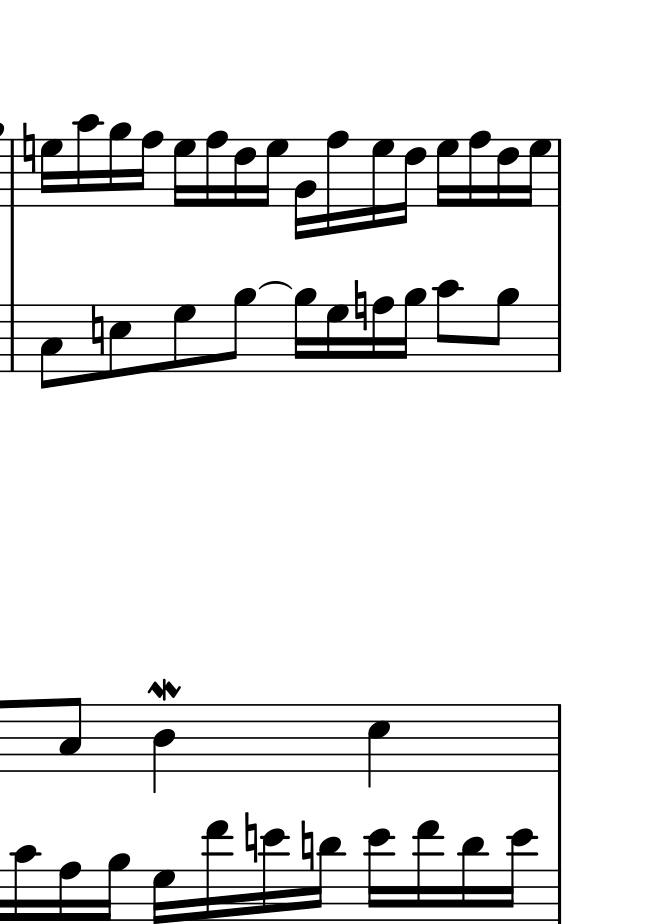16_10: (75, 110, 101, 208), (12, 845, 38, 924)
16_11: (311, 836, 341, 924), (459, 835, 486, 924)
16_12: (501, 827, 536, 924), (364, 826, 394, 924), (260, 826, 289, 924)
16_13: (413, 817, 442, 924), (203, 815, 231, 924)
16_2: (294, 138, 316, 242)
16_6: (396, 136, 427, 227), (233, 136, 257, 208), (496, 136, 520, 208)
16_7: (522, 137, 552, 208), (259, 138, 289, 208), (172, 137, 196, 210), (39, 137, 63, 209), (324, 302, 348, 374), (435, 137, 459, 208), (150, 868, 176, 924)
16_8: (324, 129, 348, 235), (133, 131, 163, 208), (370, 138, 394, 229), (203, 130, 229, 208), (467, 130, 491, 210), (370, 295, 394, 373), (57, 860, 81, 924)
16_9: (397, 288, 424, 372), (97, 851, 128, 924), (107, 120, 131, 210), (293, 287, 316, 373)
4_4: (152, 704, 176, 795)
4_5: (366, 702, 390, 791)
8_10: (435, 278, 461, 373)
8_3: (37, 302, 64, 390), (57, 696, 83, 773), (107, 303, 132, 381)
8_7: (172, 302, 196, 374)
8_9: (487, 288, 519, 372), (226, 288, 255, 374)
Mordent: (146, 677, 184, 702)
Natural: (89, 304, 106, 359), (352, 279, 369, 334), (243, 811, 258, 866), (300, 819, 315, 874), (21, 123, 36, 176)
Single_barline: (551, 305, 567, 371), (6, 138, 22, 204), (551, 705, 567, 770), (552, 139, 567, 206), (4, 308, 18, 370), (551, 870, 566, 923)
Slur: (259, 280, 294, 291)
